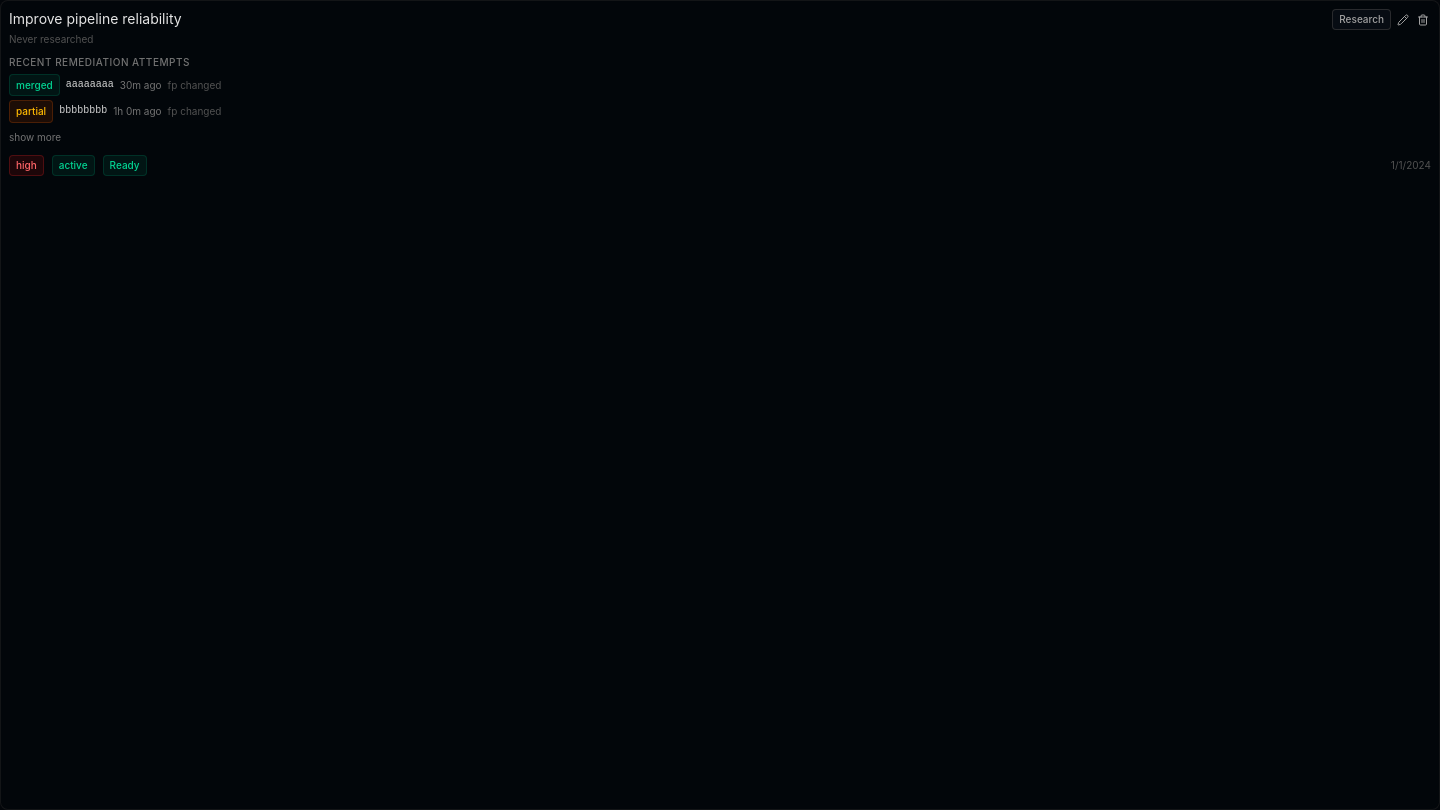
DirectionCard diagnosis/remediation section › renders remediation history summary and show-more expansion
Expected: the text "Recent remediation attempts" is shown, [9,56,190,68]
Expected: the text "merged" is shown, [9,74,60,96]
What coordinates should you click on to do the following:
click the button "show more"
I would click on:
 (35, 137)
Its box is [9,130,61,144].
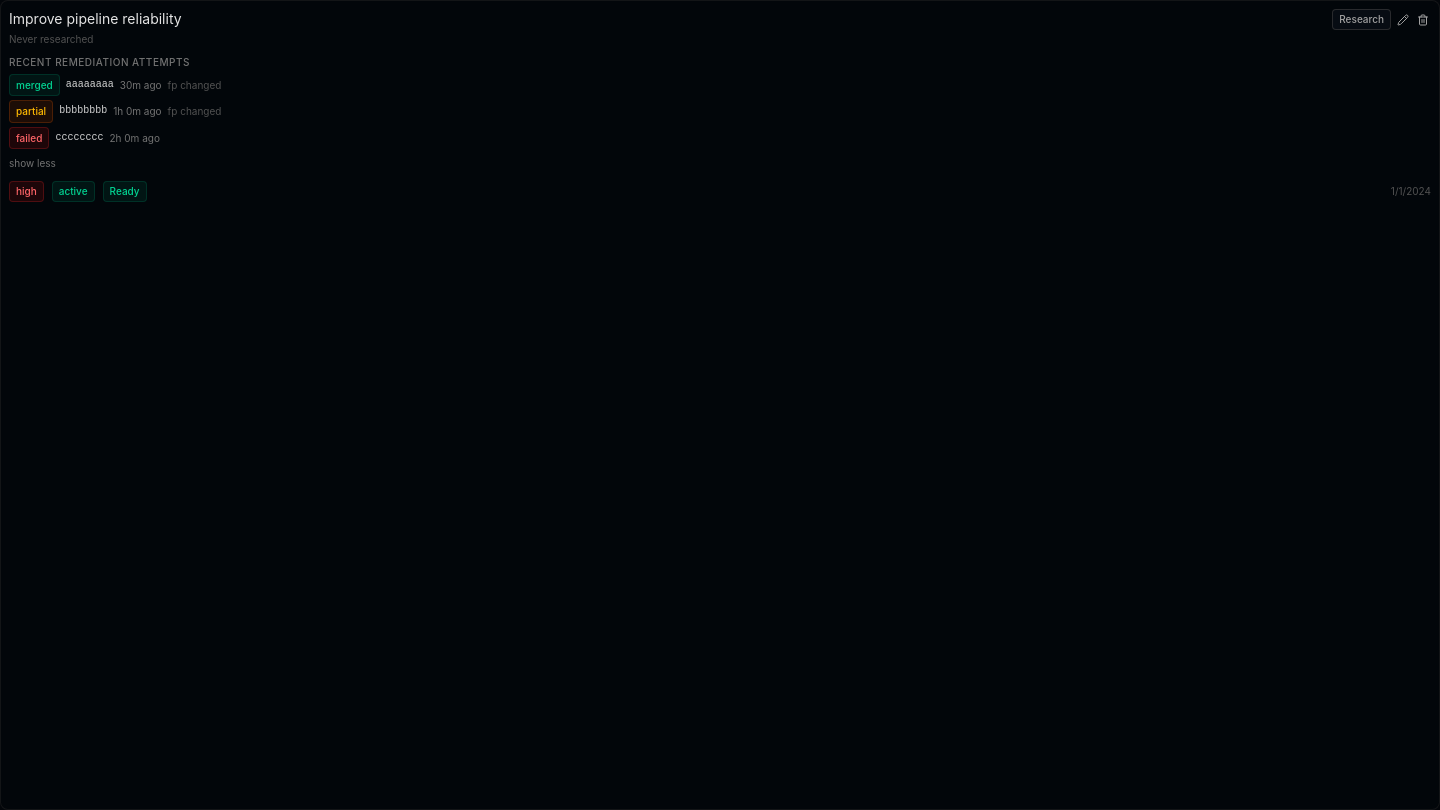
Expected: the text "cccccccc" is shown, [55,130,103,146]
